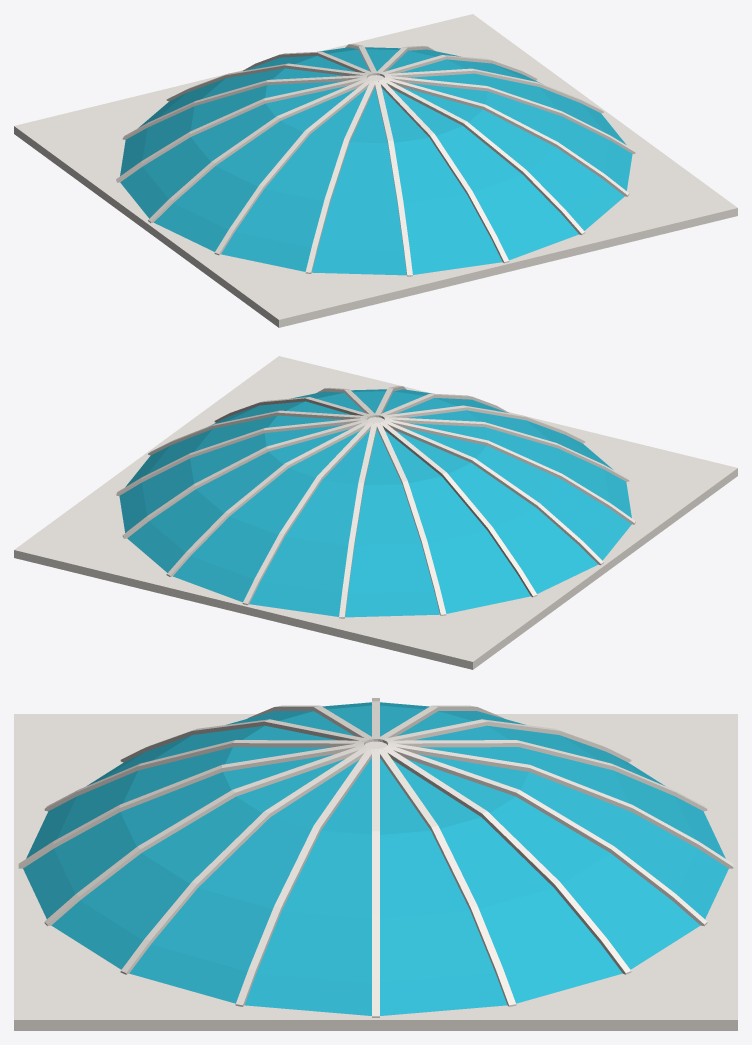
File: atrium_dome.glb
3 views of the same model, one above another, from view 1: azimuth 30°, elevation 25°; view 2: azimuth 150°, elevation 25°; view 3: azimuth 270°, elevation 25° (orthographic). The views are drawn at different scales.
Parts seen in each view (by area): view 1: frutiger_aero_atrium_dome; view 2: frutiger_aero_atrium_dome; view 3: frutiger_aero_atrium_dome.
Part boxes in pixels (left/top/right/bottom): frutiger_aero_atrium_dome: left=14, top=14, right=737, bottom=327; frutiger_aero_atrium_dome: left=14, top=356, right=737, bottom=669; frutiger_aero_atrium_dome: left=14, top=698, right=737, bottom=1030.
Bounding box in the file's own units: 12 × 2.45 × 12.
2 materials, 2 textured.
